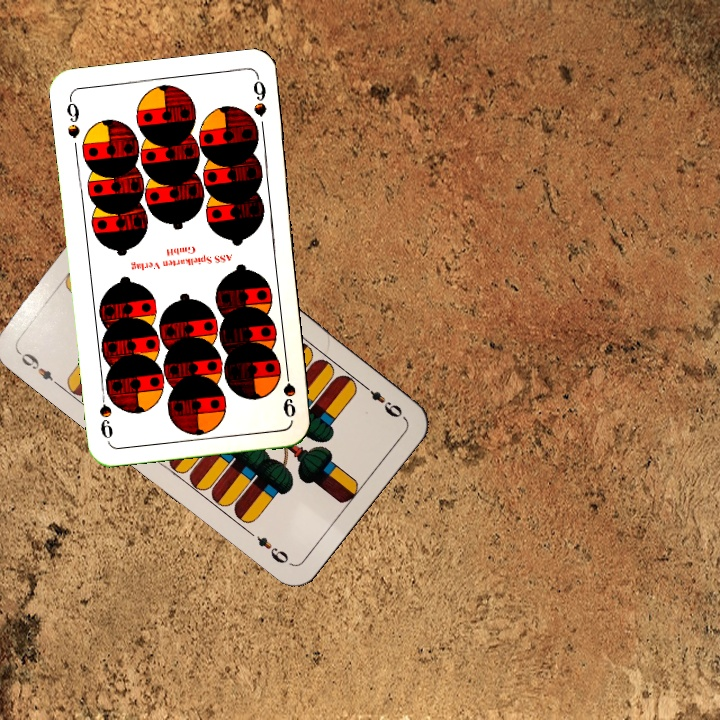E9: (14, 347, 63, 390), (357, 379, 406, 421)
S9: (279, 362, 299, 420), (63, 93, 82, 141)
